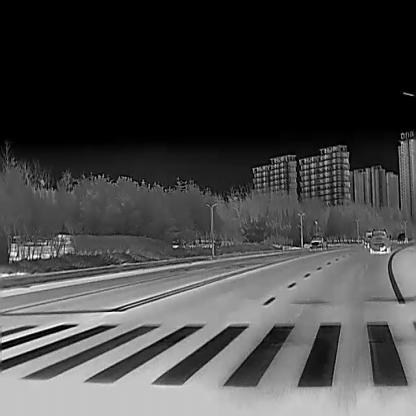car: (369, 227, 391, 253), (309, 234, 327, 250), (364, 230, 373, 248), (396, 231, 407, 243)
